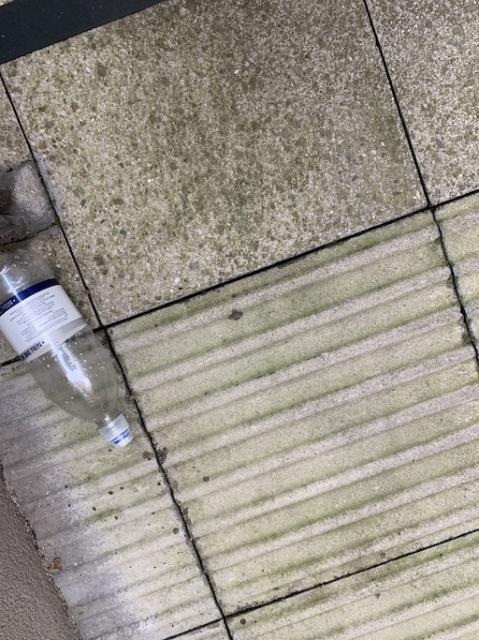plastic: (0, 248, 131, 446)
